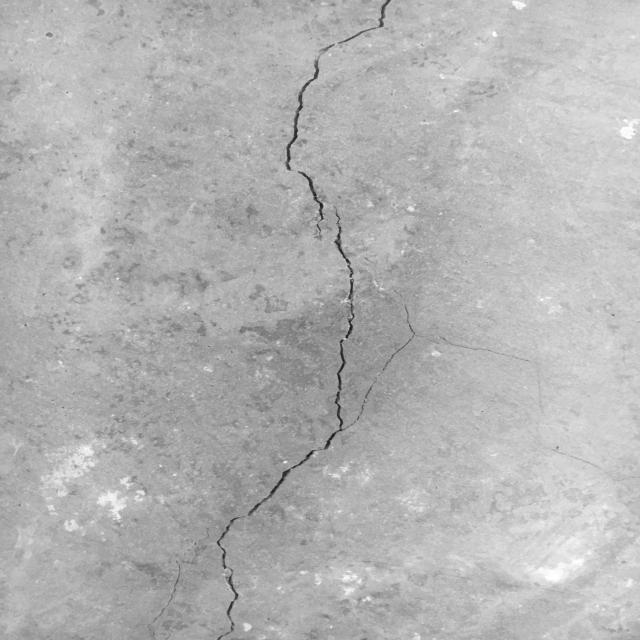SurfaceCrack: (180, 0, 413, 639)
